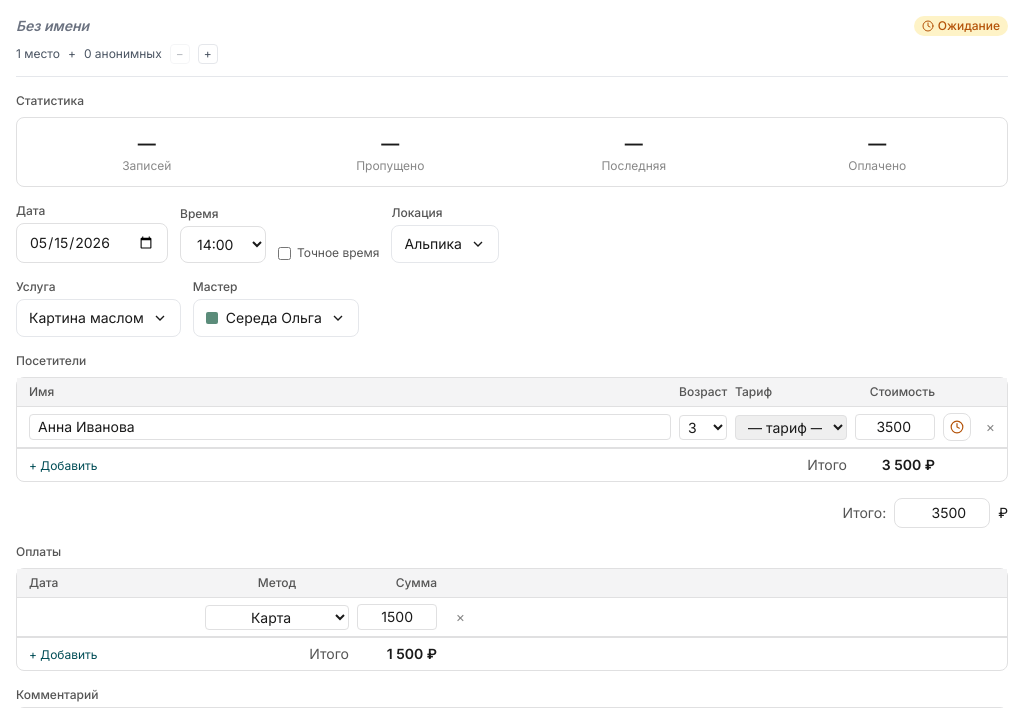
Test: ClientRecordTab — layout › filters service options by search input
Click the button with test id "combobox-trigger" showing "Картина маслом".
click(98, 318)  # box [16,299,181,337]
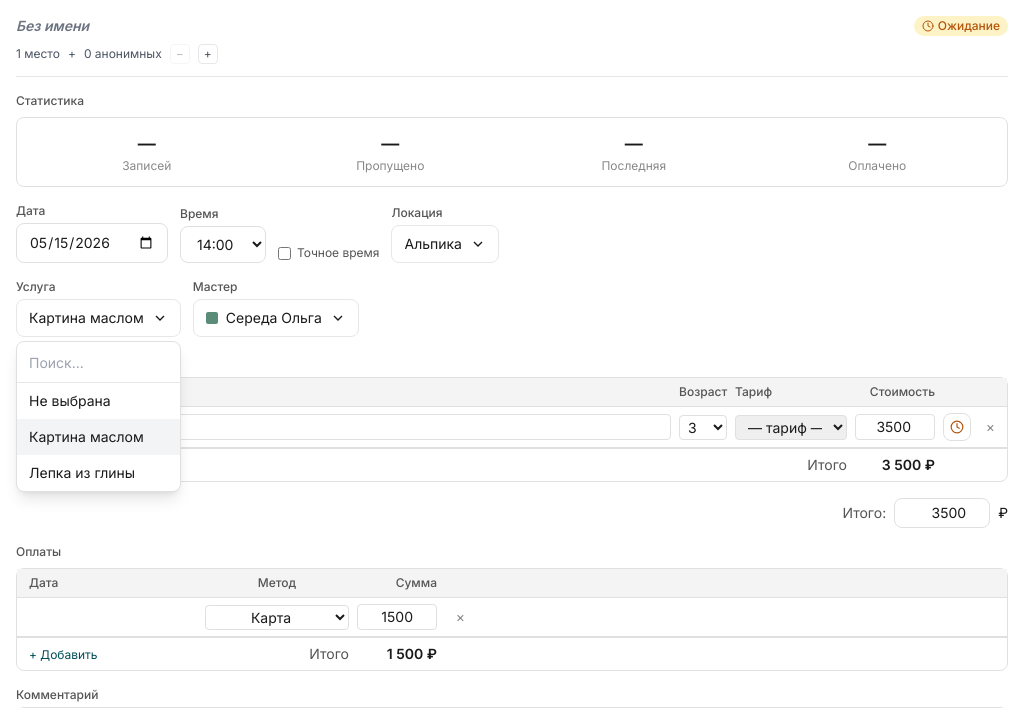
// Fragment of the fixture service title ('Картина маслом', id 's1')
Type "картина" into the dropdown with test id "combobox-search".
click(98, 363); type("картина")  # box [29,353,168,373]
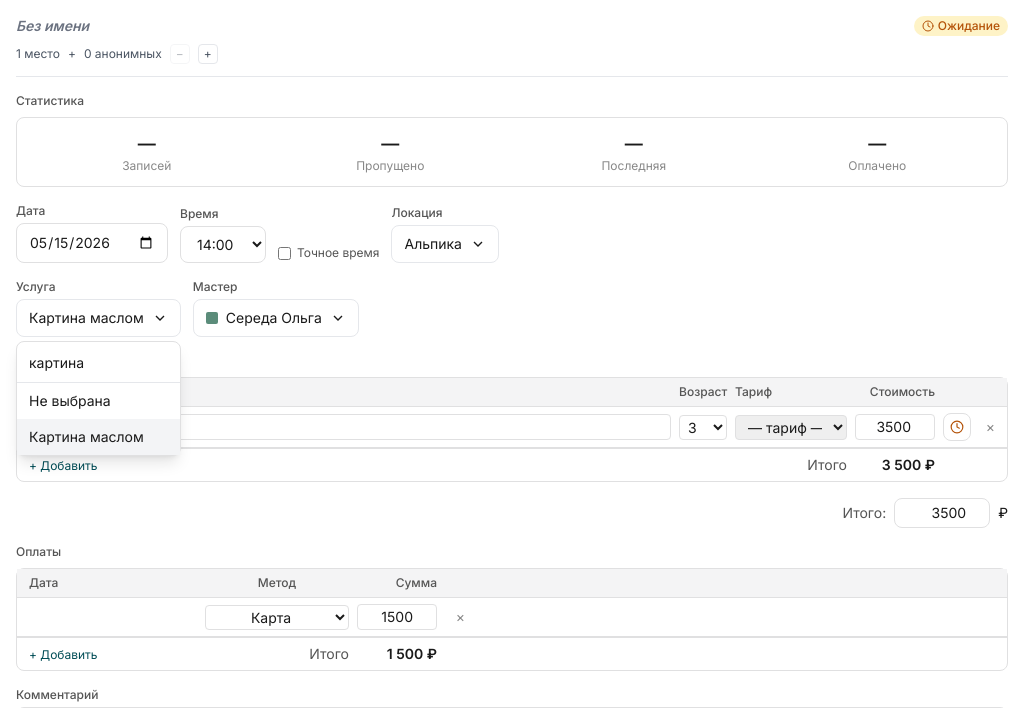
Now the option with test id "combobox-option-s1" is shown, box [17,419,180,455]
Now the option with test id "combobox-option-s2" is gone
